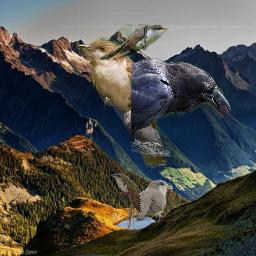Crow: (131, 58, 231, 157)
Cuckoo: (75, 37, 166, 168), (98, 24, 167, 60), (110, 173, 141, 229), (135, 180, 173, 222)
